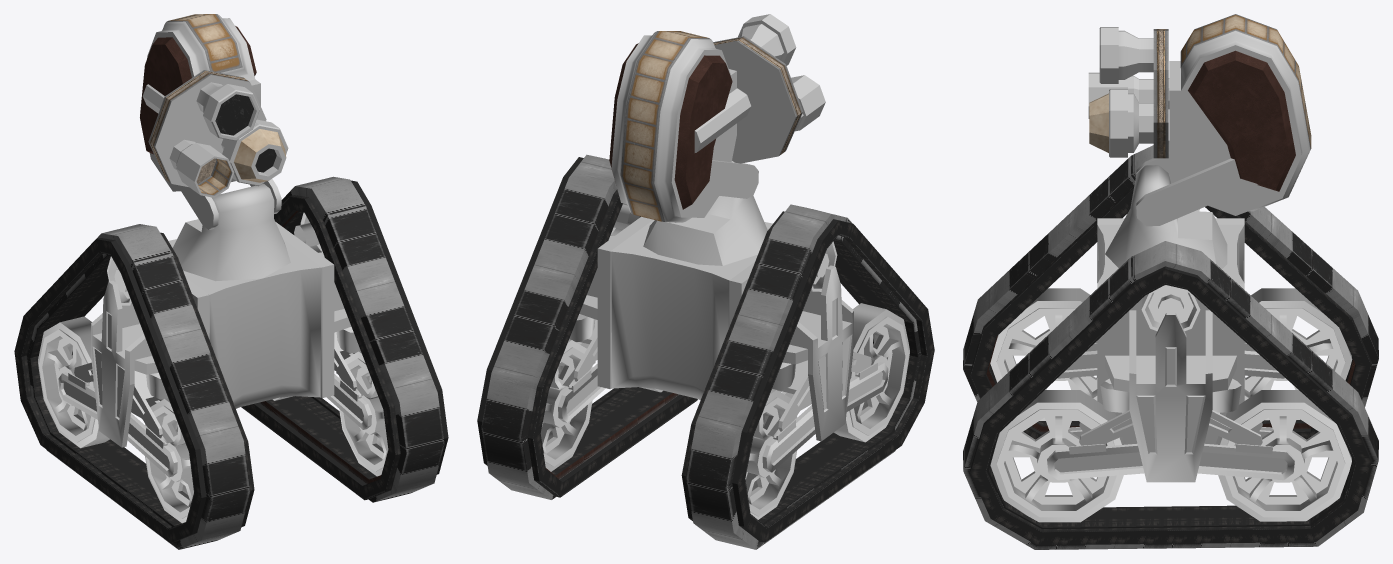
File: CameraTank.FBX
3 views of the same model, side by side, from view 1: azimuth 30°, elevation 25°; view 2: azimuth 150°, elevation 25°; view 3: azimuth 270°, elevation 25° (orthographic). The views are drawn at different scales.
Visible parts, largest first — view 1: TankTruck001, Cylinder007, TankArm001; view 2: TankTruck001, Cylinder007, TankArm001; view 3: TankTruck001, Cylinder007, TankArm001.
Boxes of the visible parts, x1=… form: TankTruck001: x1=14, y1=176, x2=448, y2=549; Cylinder007: x1=140, y1=14, x2=288, y2=197; TankArm001: x1=172, y1=179, x2=290, y2=281; TankTruck001: x1=477, y1=154, x2=934, y2=549; Cylinder007: x1=609, y1=14, x2=825, y2=222; TankArm001: x1=643, y1=160, x2=767, y2=265; TankTruck001: x1=963, y1=141, x2=1378, y2=549; Cylinder007: x1=1088, y1=14, x2=1311, y2=215; TankArm001: x1=1105, y1=152, x2=1257, y2=269.
Size of the model in its own units: 26.51 by 44.7 by 36.03.
